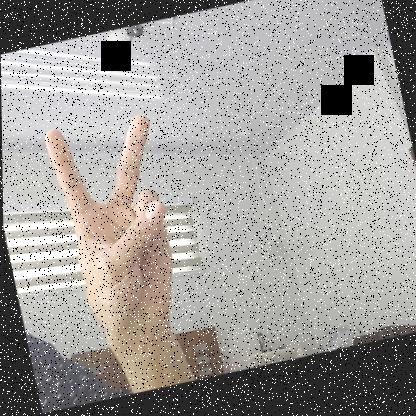V: (39, 99, 194, 354)
